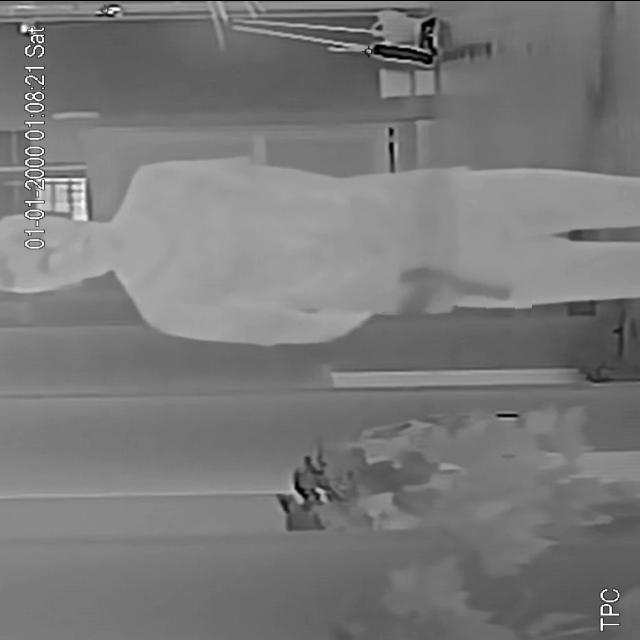Weapon: (382, 243, 532, 316)
